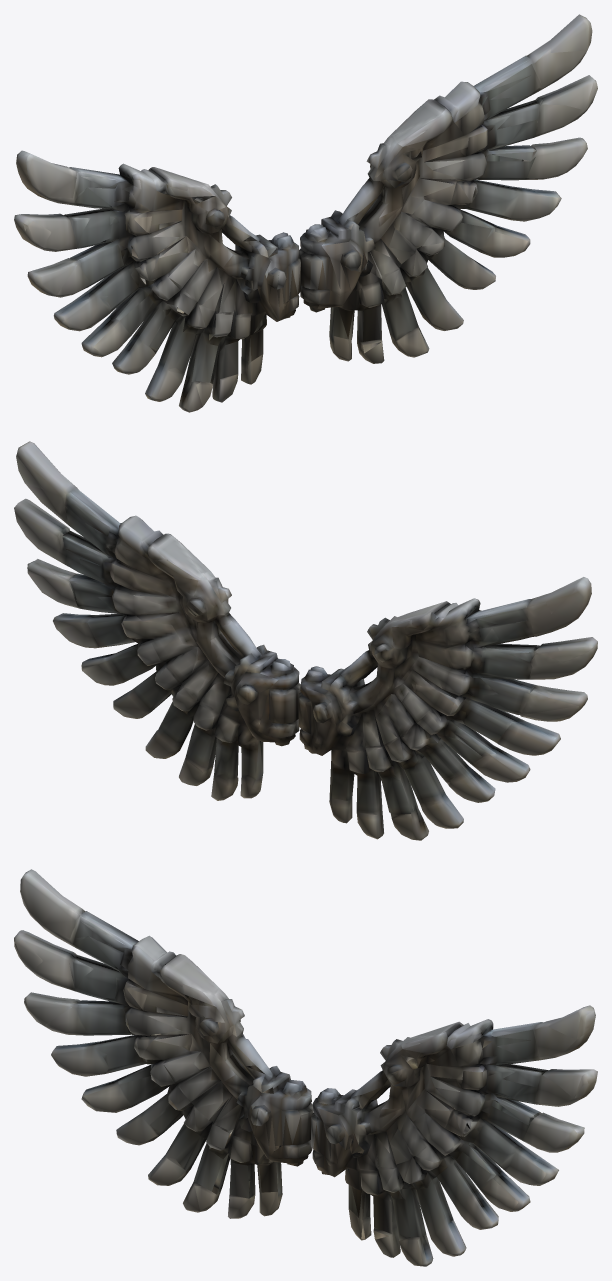
The model's file is 钢铁翅膀1fbx.fbx.
3 renders of one model, top to bottom at view 1: azimuth 30°, elevation 25°; view 2: azimuth 150°, elevation 25°; view 3: azimuth 330°, elevation 25°, orthographic.
Parts seen in each view (by area): view 1: geometry_0.009; view 2: geometry_0.009; view 3: geometry_0.009.
Boxes of the visible parts, bbox=[...] form: geometry_0.009: bbox=[14, 14, 597, 412]; geometry_0.009: bbox=[14, 441, 597, 840]; geometry_0.009: bbox=[14, 869, 597, 1266].
Size of the model in its own units: 100 by 49.96 by 10.7.
